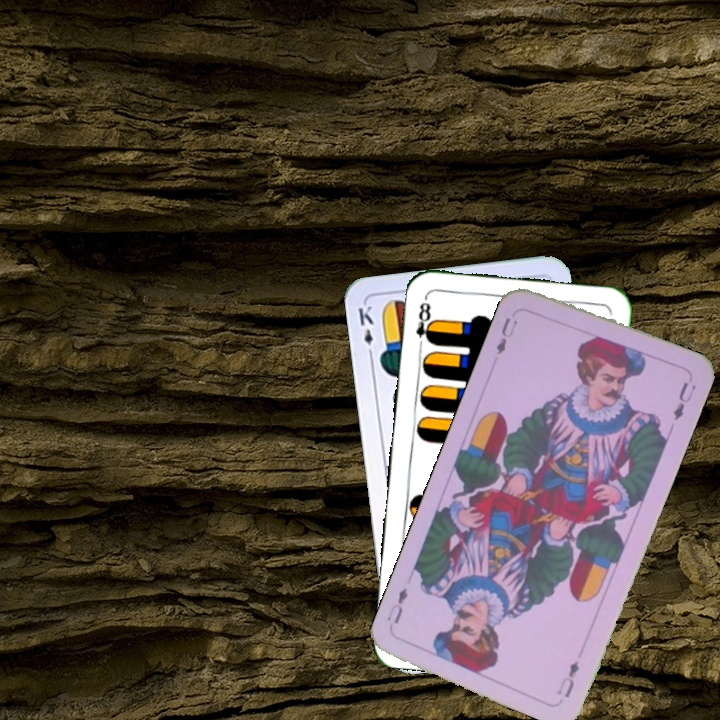E8: (412, 294, 436, 353)
EK: (354, 301, 376, 361)
EU: (553, 656, 582, 700), (492, 314, 520, 358)
